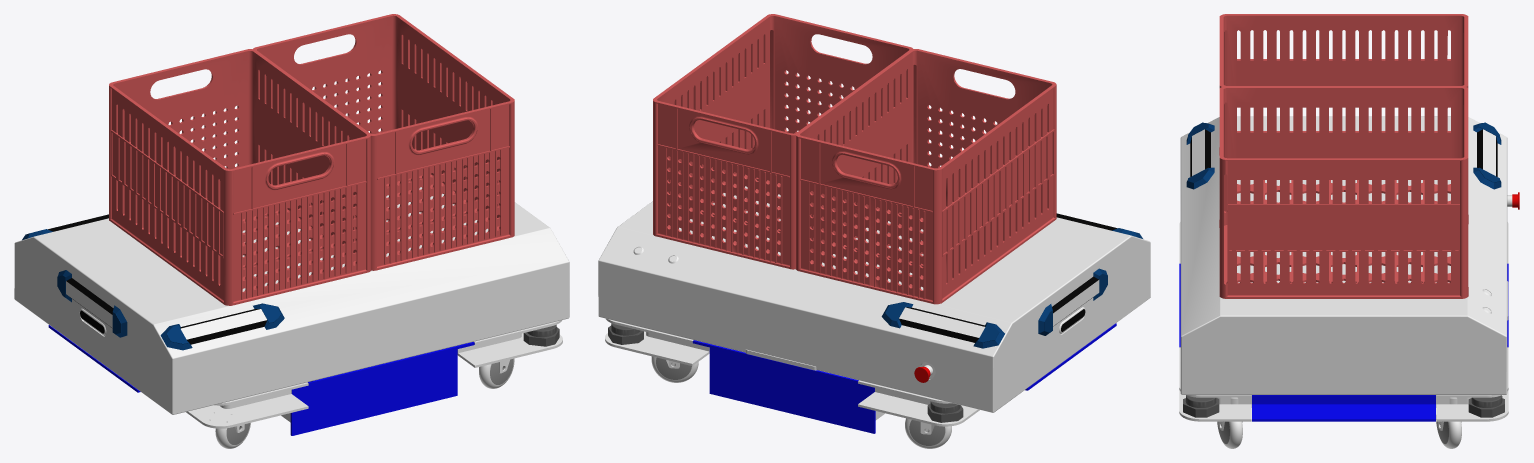
File: amir-2023-warehouse.glb
The picture shows the model from 3 angles, left to right: view 1: azimuth 30°, elevation 25°; view 2: azimuth 150°, elevation 25°; view 3: azimuth 270°, elevation 25°; orthographic projection. The views are drawn at different scales.
Parts seen in each view (by area): view 1: final_cover-1, plastic crate-2, plastic crate-1, Lidar Side ASSY-2/Lidar Side-1, Fixtures and Brackets-1/lidar_bracket-3, led-2, Fixtures and Brackets-1/lidar_bracket-2, led-3, Castor Assembly-1/Castor Wheel-1, Lidar-2, Castor Assembly-3/Castor Wheel-1; view 2: final_cover-1, plastic crate-2, plastic crate-1, Lidar Side ASSY-1/Lidar Side-1, led-1, Fixtures and Brackets-1/lidar_bracket-1, Fixtures and Brackets-1/lidar_bracket-4, led-3, Castor Assembly-4/Castor Wheel-1, Castor Assembly-2/Castor Wheel-1, Lidar-3, Lidar-4; view 3: plastic crate-1, final_cover-1, plastic crate-2, Front Bumber-1/Lidar Front1-1, led-2, led-1, Fixtures and Brackets-1/lidar_bracket-2, Fixtures and Brackets-1/lidar_bracket-4, Lidar-4, Lidar-2, Castor Assembly-2/Castor Wheel-1, Castor Assembly-1/Castor Wheel-1.
Boxes of the visible parts, box(x1,y1,x2,y2) form: final_cover-1: box(14, 187, 569, 414); plastic crate-2: box(109, 49, 370, 305); plastic crate-1: box(252, 14, 514, 270); Lidar Side ASSY-2/Lidar Side-1: box(290, 342, 474, 435); Fixtures and Brackets-1/lidar_bracket-3: box(186, 382, 308, 428); led-2: box(160, 303, 284, 350); Fixtures and Brackets-1/lidar_bracket-2: box(457, 320, 562, 367); led-3: box(57, 270, 127, 337); Castor Assembly-1/Castor Wheel-1: box(479, 358, 514, 388); Lidar-2: box(523, 325, 559, 346); Castor Assembly-3/Castor Wheel-1: box(215, 423, 250, 448); final_cover-1: box(598, 186, 1150, 412); plastic crate-2: box(795, 49, 1056, 304); plastic crate-1: box(653, 14, 913, 269); Lidar Side ASSY-1/Lidar Side-1: box(692, 340, 875, 433); led-1: box(881, 302, 1004, 348); Fixtures and Brackets-1/lidar_bracket-1: box(858, 380, 979, 426); Fixtures and Brackets-1/lidar_bracket-4: box(605, 318, 709, 366); led-3: box(1038, 268, 1107, 335); Castor Assembly-4/Castor Wheel-1: box(905, 418, 951, 448); Castor Assembly-2/Castor Wheel-1: box(651, 356, 698, 382); Lidar-3: box(927, 401, 963, 422); Lidar-4: box(608, 323, 643, 344); plastic crate-1: box(1219, 86, 1468, 298); final_cover-1: box(1180, 116, 1507, 394); plastic crate-2: box(1219, 14, 1468, 223); Front Bumber-1/Lidar Front1-1: box(1252, 395, 1435, 421); led-2: box(1186, 122, 1214, 189); led-1: box(1473, 122, 1501, 189); Fixtures and Brackets-1/lidar_bracket-2: box(1179, 347, 1251, 421); Fixtures and Brackets-1/lidar_bracket-4: box(1436, 347, 1508, 421); Lidar-4: box(1468, 395, 1504, 417); Lidar-2: box(1183, 395, 1219, 417); Castor Assembly-2/Castor Wheel-1: box(1436, 415, 1461, 448); Castor Assembly-1/Castor Wheel-1: box(1217, 421, 1242, 448).
Size of the model in its own units: 1.09 by 0.7422 by 0.7771.
